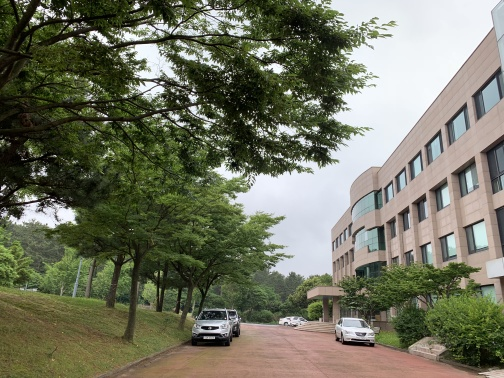Joint Experimental Labs: (340, 139, 504, 268), (300, 169, 395, 331)
